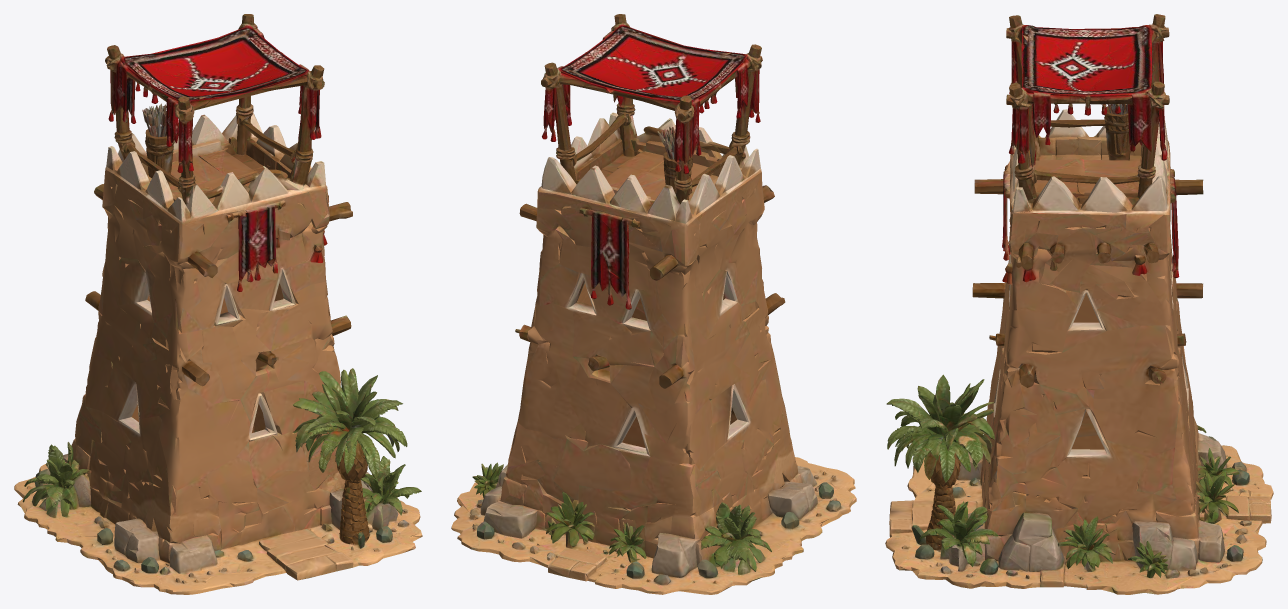
The model's file is archer.glb.
3 renders of one model, left to right at view 1: azimuth 30°, elevation 25°; view 2: azimuth 150°, elevation 25°; view 3: azimuth 270°, elevation 25°, orthographic. The views are drawn at different scales.
Parts seen in each view (by area): view 1: tower_a; view 2: tower_a; view 3: tower_a.
Boxes of the visible parts, x1,y1,x2,y2 form: tower_a: (14, 14, 422, 594); tower_a: (451, 14, 856, 594); tower_a: (885, 14, 1273, 594).
Size of the model in its own units: 1.38 by 1.9 by 1.43.
Materials: 1 (1 with a texture image).
